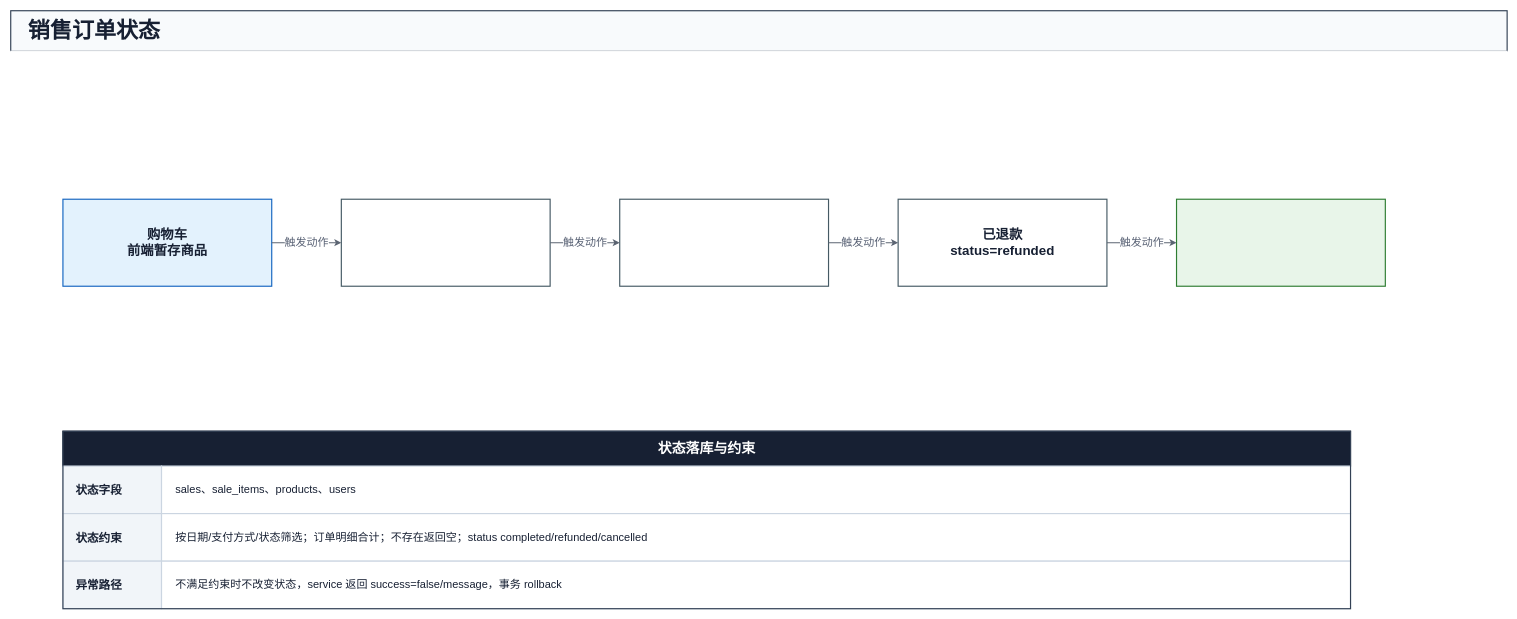
This 1517x619 diagram has some shape labels left out. Here are the shapes that lost their labels. From the top down, the centre of each, then its label:
At pixel 758 62: "状态图｜状态、触发动作、持久化字段".
At pixel 445 242: "待结算 校验数量/折扣".
At pixel 724 242: "已完成 status=completed".
At pixel 1281 242: "已取消 status=cancelled".
